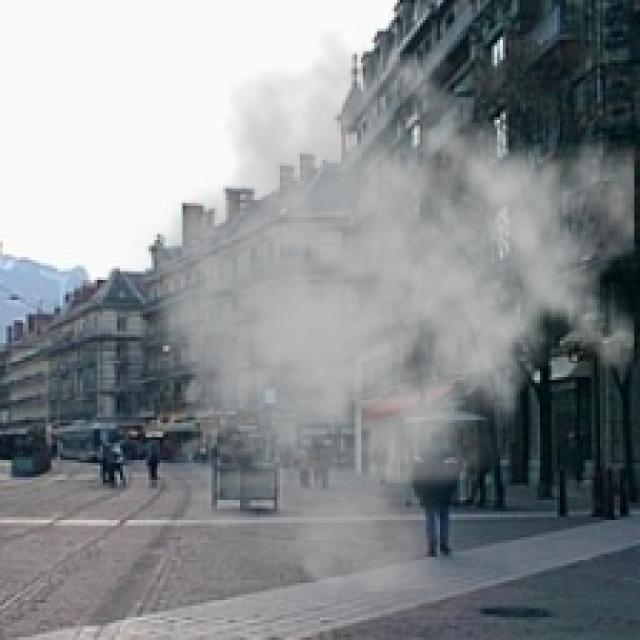Smoke: (106, 26, 634, 594)
